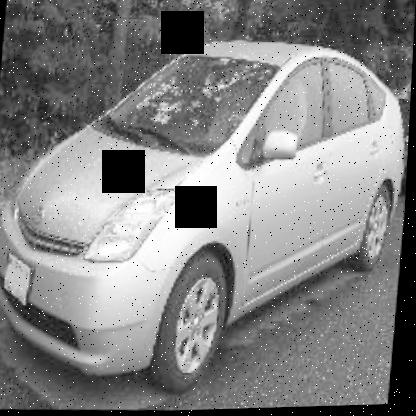not_emergency: (0, 33, 413, 403)
